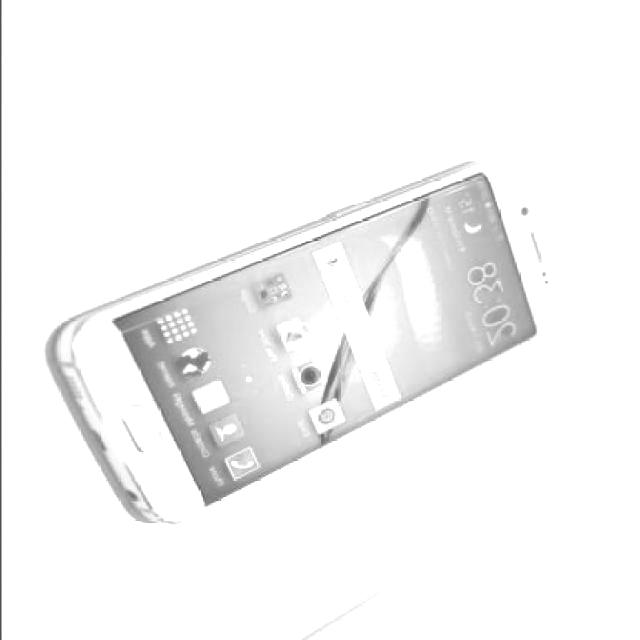fake: (51, 157, 567, 528)
